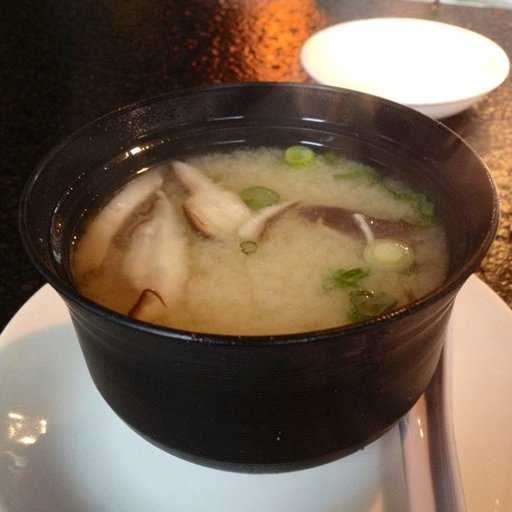soup: (30, 96, 487, 345)
